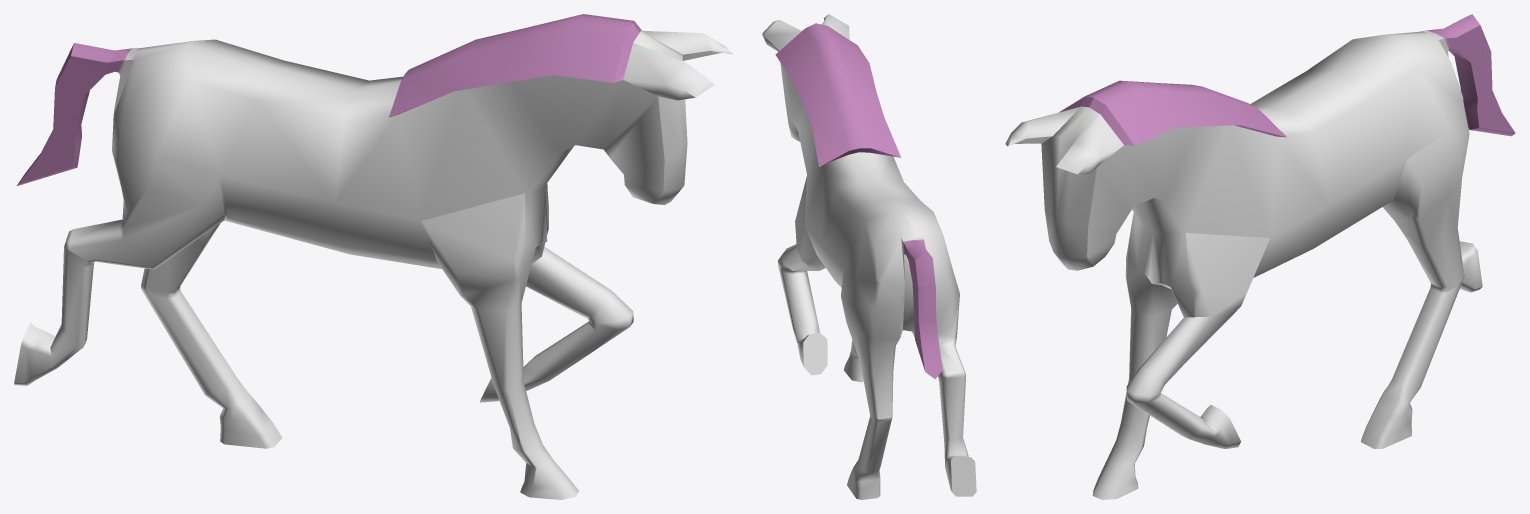
Rendered from caballo2.obj.
3 views of the same model, side by side, from view 1: azimuth 30°, elevation 25°; view 2: azimuth 150°, elevation 25°; view 3: azimuth 270°, elevation 25° (orthographic). The views are drawn at different scales.
Parts seen in each view (by area): view 1: carousel.004_m_carousel; view 2: carousel.004_m_carousel; view 3: carousel.004_m_carousel.
Part boxes in pixels (x1,y1,x2,y2): carousel.004_m_carousel: (14, 14, 733, 499); carousel.004_m_carousel: (762, 14, 976, 499); carousel.004_m_carousel: (1005, 14, 1515, 499).
Bounding box in the file's own units: 3.59 × 3.26 × 3.4.
